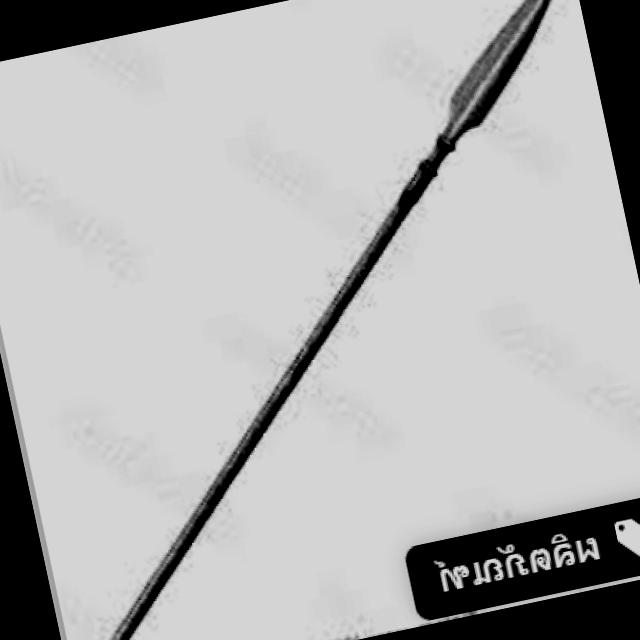spear: (23, 0, 640, 600)
